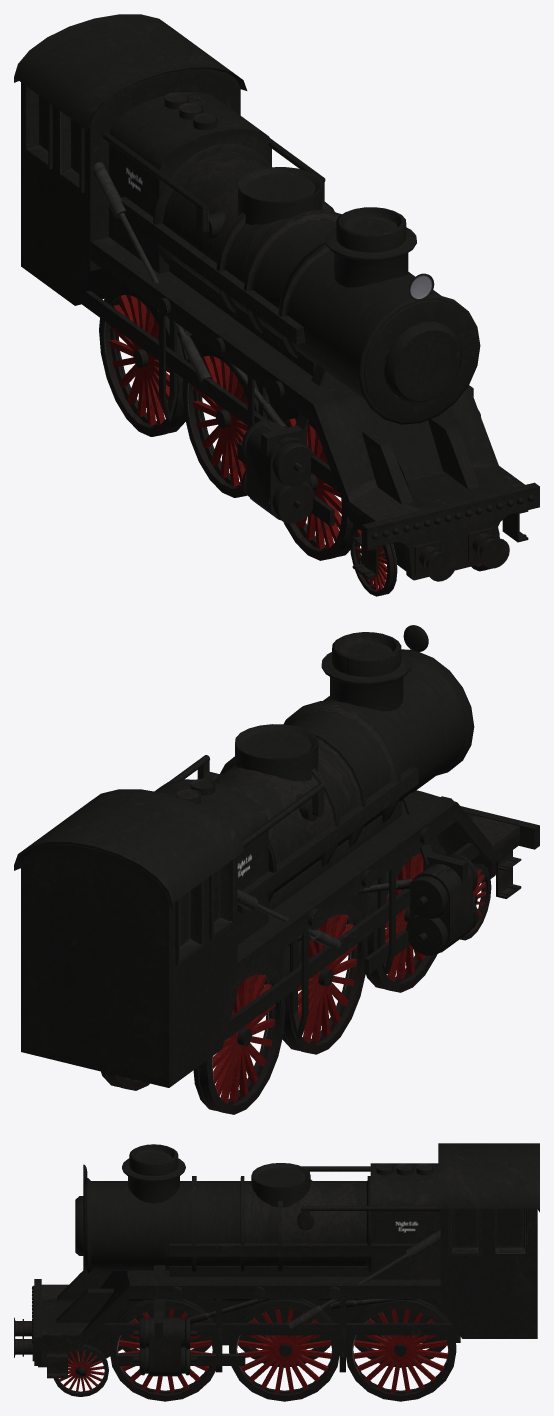
File: steam_train.glb
The picture shows the model from 3 angles, top to bottom: view 1: azimuth 30°, elevation 25°; view 2: azimuth 150°, elevation 25°; view 3: azimuth 270°, elevation 25°; orthographic projection. The views are drawn at different scales.
Visible parts, largest first — view 1: pCube46; view 2: pCube46; view 3: pCube46.
Boxes of the visible parts, box(x1,y1,x2,y2) form: pCube46: box(14, 14, 539, 596); pCube46: box(14, 625, 539, 1114); pCube46: box(14, 1143, 539, 1401).
Bounding box in the file's own units: 143 × 214 × 447.
1 material, 1 textured.
